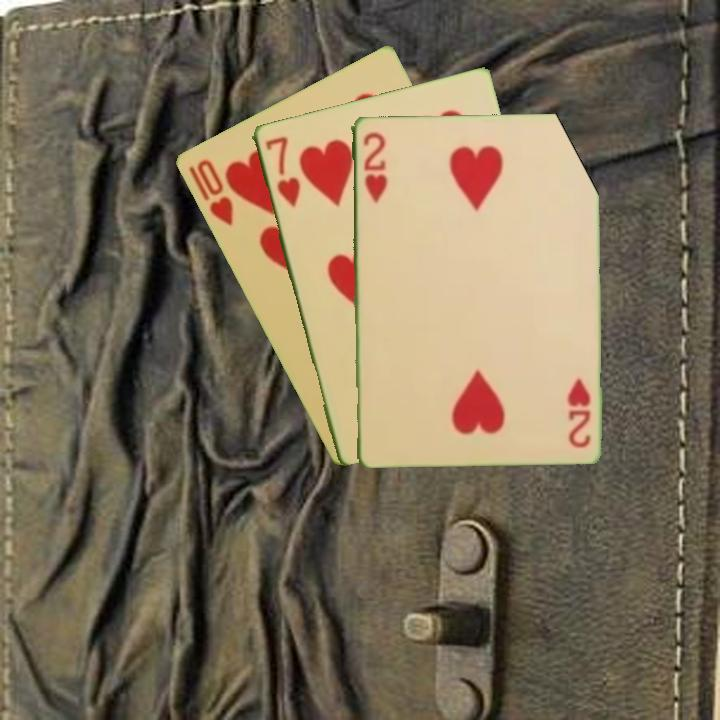10h: (184, 155, 236, 229)
2h: (359, 128, 389, 206), (563, 375, 593, 451)
7h: (261, 132, 303, 211)
